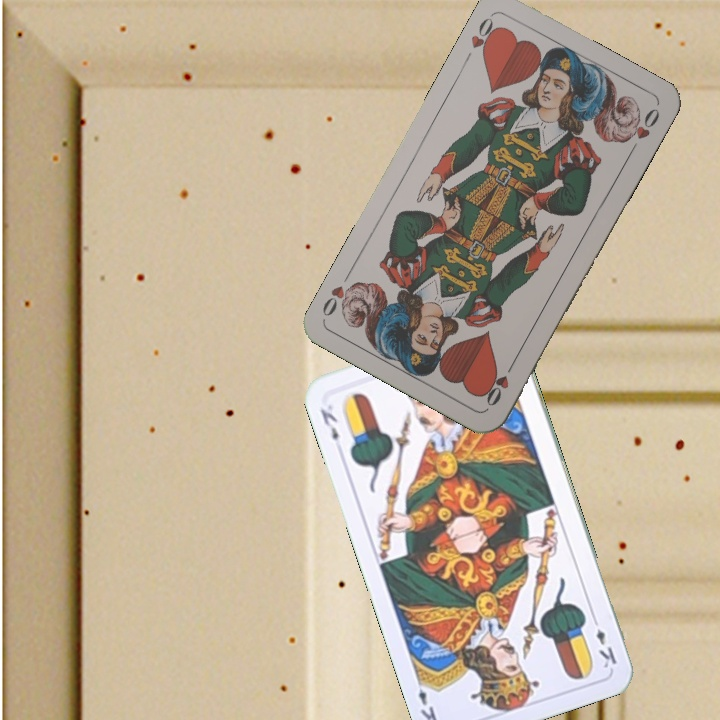EK: (588, 612, 620, 671), (316, 404, 342, 444)
HO: (481, 356, 518, 409), (467, 13, 503, 61)
